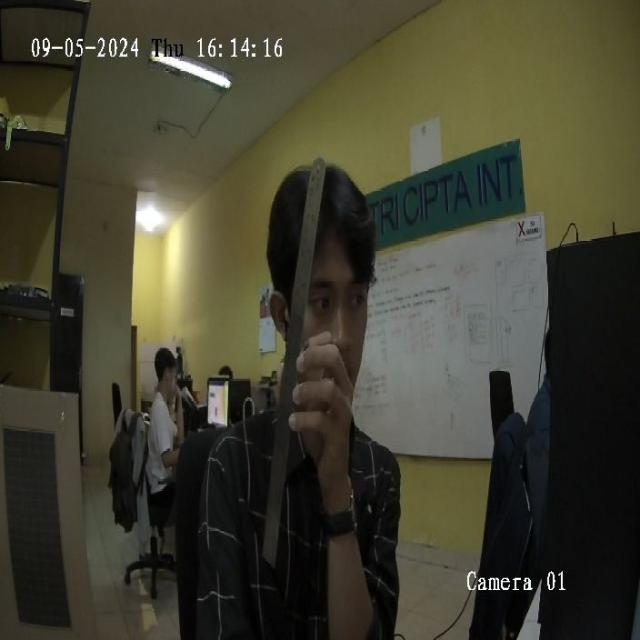Ruler: (264, 159, 325, 559)
